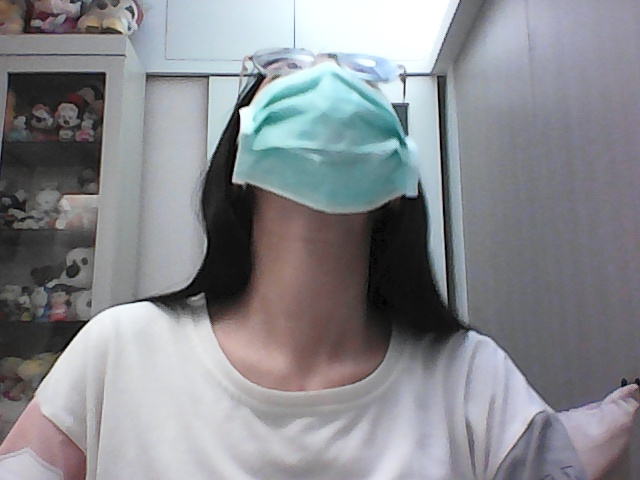Mask: (230, 77, 425, 217)
